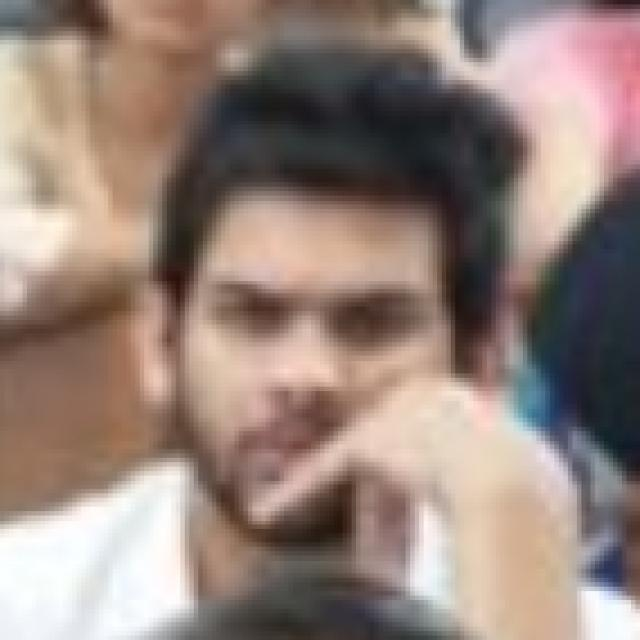Looking forward: (167, 186, 456, 536)
